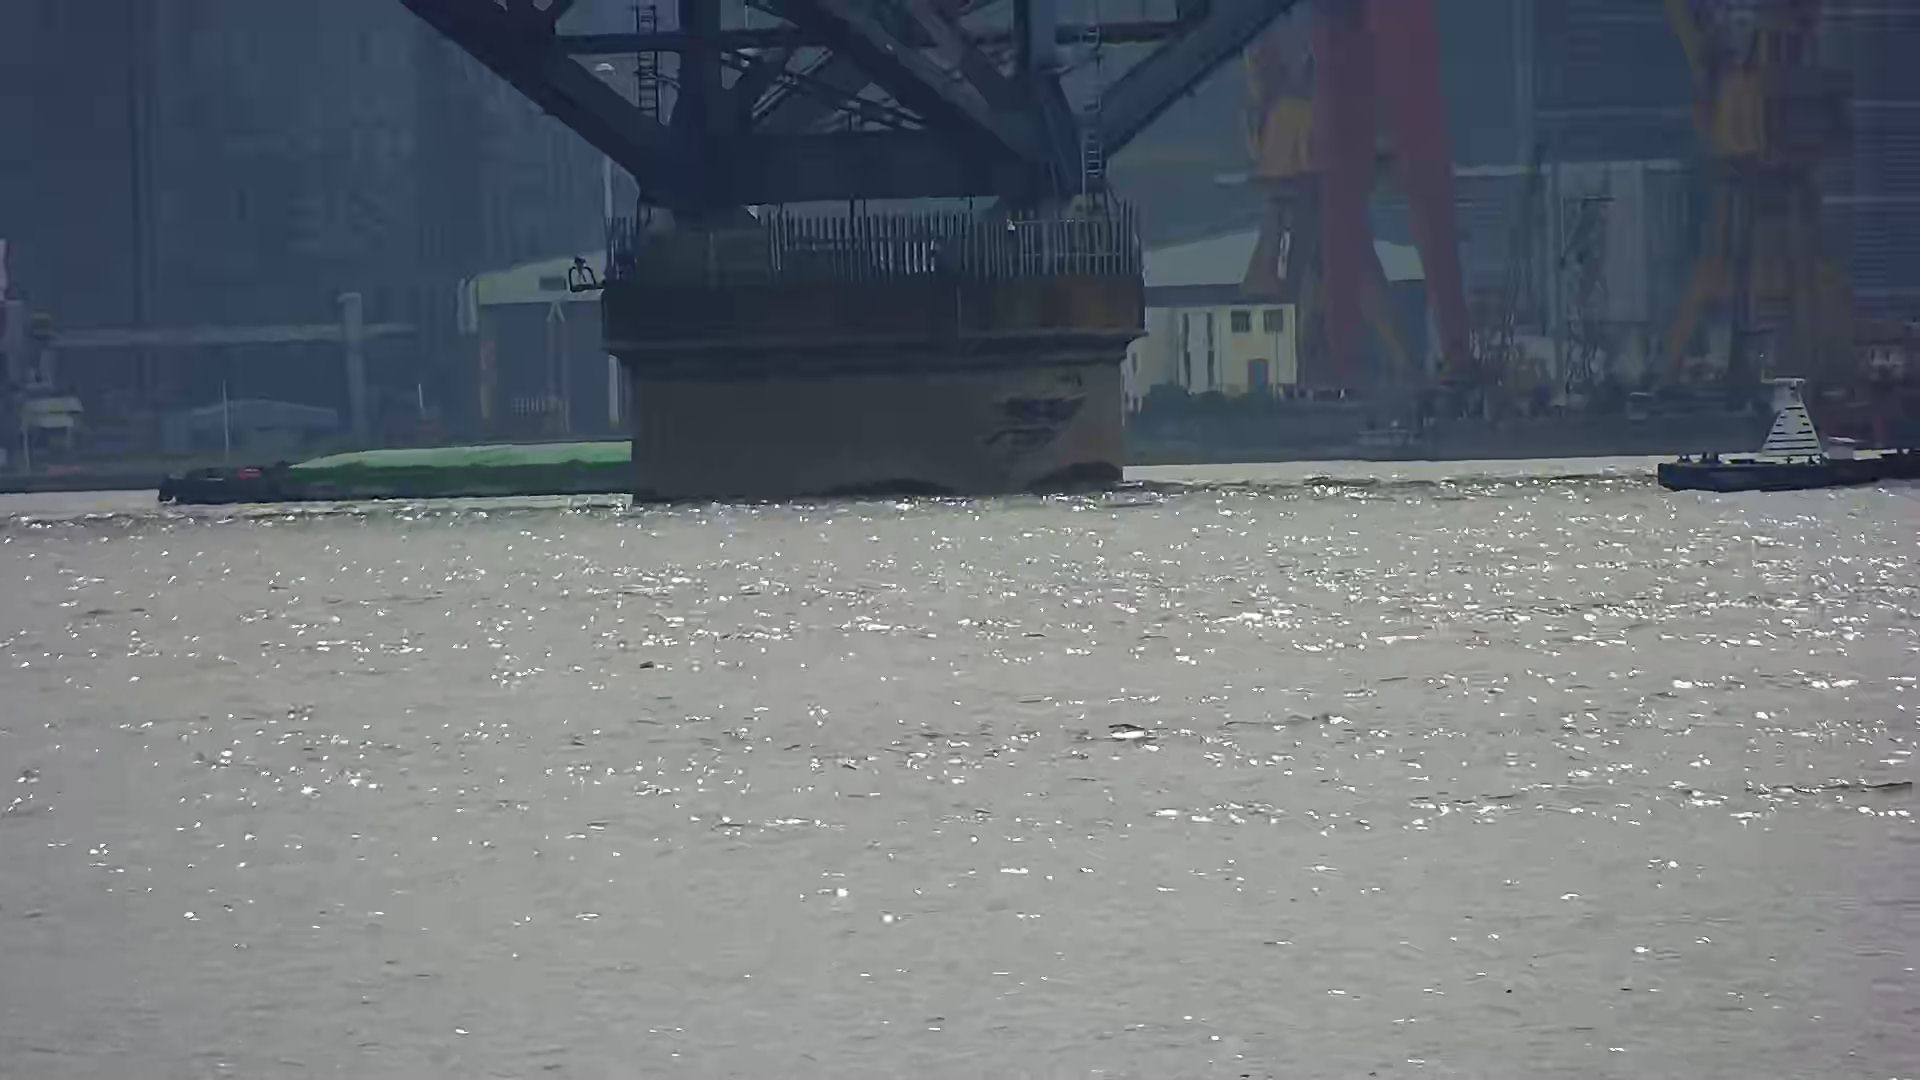boat: (1623, 434, 1920, 510)
bridge: (401, 1, 1303, 502)
ship: (138, 440, 658, 513)
